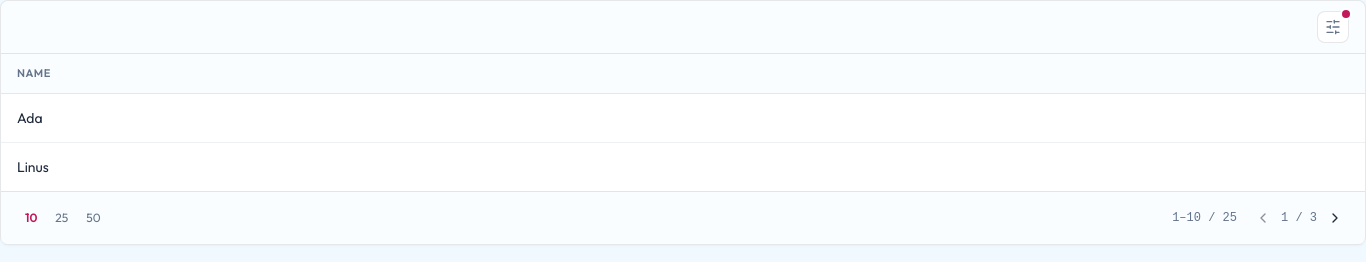
DataTable hardening (K-55 Phase 1-3) › renders hideable:false columns even if listed in stored hiddenColumns
The image size is (1366, 262).
Expected: the column heading "Name" is shown, [1,54,1365,93]
Expected: the column heading "note" is not shown
Note: Check settings menu checkbox for Name
Click the button named "table settings".
click(1333, 27)  # box [1317,11,1349,43]
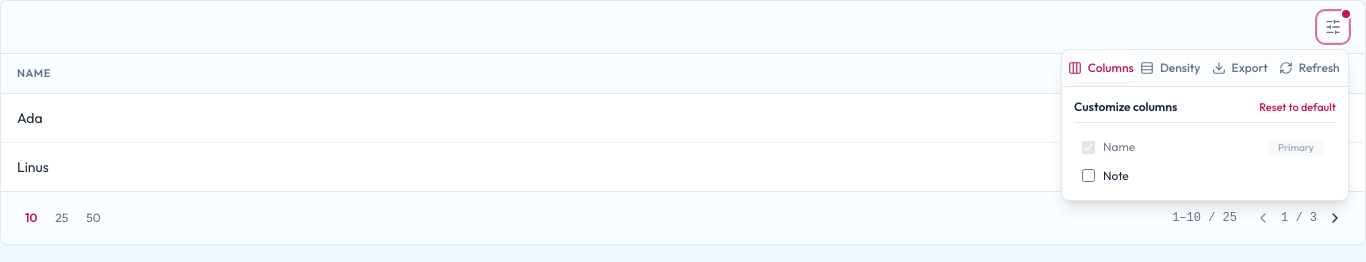
Expected: the checkbox labelled "Name Primary" is checked, [1082,141,1095,154]
Expected: the checkbox labelled "Name Primary" is disabled, [1082,141,1095,154]
